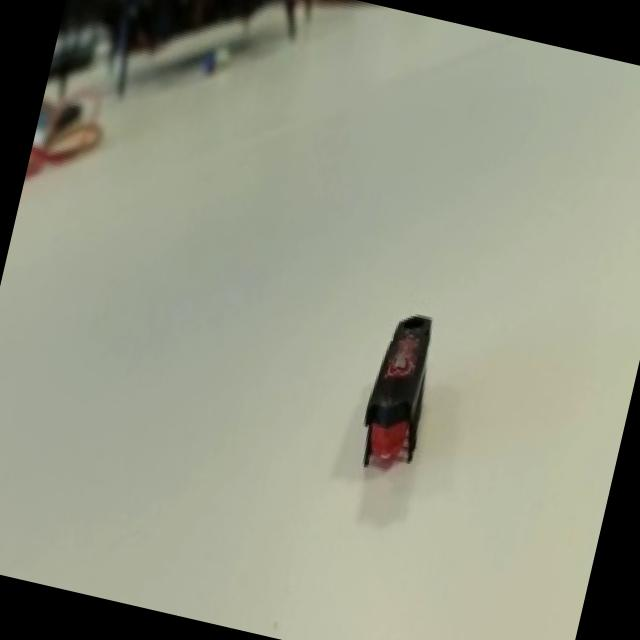2_NanoBug_Negro: (316, 280, 474, 490)
